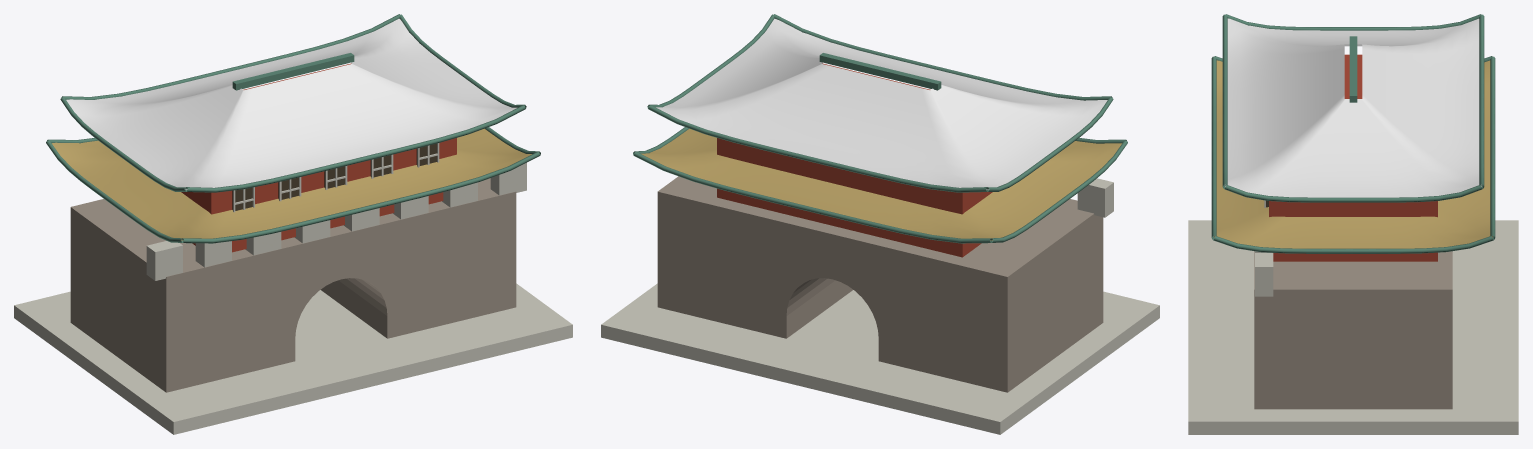
The model's file is beiping_detail.glb.
The picture shows the model from 3 angles, left to right: view 1: azimuth 30°, elevation 25°; view 2: azimuth 150°, elevation 25°; view 3: azimuth 270°, elevation 25°; orthographic projection. The views are drawn at different scales.
Visible parts, largest first — view 1: Glazed roof tile seams, left pier, stone plinth, right pier, lower eaves, arched stone span, red upper hall, green glazed edge.004, green glazed edge, green glazed edge.002, battlement, roof ridge (+10 smaller); view 2: Glazed roof tile seams, left pier, stone plinth, right pier, lower eaves, red upper hall, arched stone span, green glazed edge.006, green glazed edge.002, green glazed edge, roof ridge, battlement (+3 smaller); view 3: Glazed roof tile seams, stone plinth, right pier, lower eaves, red upper hall, green glazed edge.005, green glazed edge.001, green glazed edge.004, green glazed edge.006, green glazed edge.003, green glazed edge, green glazed edge.002 (+2 smaller).
Part boxes in pixels (box(x1,y1,x2,y2)): Glazed roof tile seams: box(66, 18, 517, 189); left pier: box(70, 199, 295, 392); stone plinth: box(14, 283, 572, 434); right pier: box(321, 178, 516, 338); lower eaves: box(52, 128, 531, 240); arched stone span: box(287, 218, 387, 335); red upper hall: box(181, 63, 456, 252); green glazed edge.004: box(181, 151, 540, 243); green glazed edge: box(185, 105, 525, 192); green glazed edge.002: box(61, 14, 400, 99); battlement: box(146, 241, 182, 280); roof ridge: box(232, 53, 354, 90); Glazed roof tile seams: box(656, 18, 1107, 189); left pier: box(878, 199, 1103, 392); stone plinth: box(601, 283, 1159, 434); right pier: box(657, 176, 852, 338); lower eaves: box(641, 128, 1121, 240); red upper hall: box(717, 63, 992, 257); arched stone span: box(786, 216, 886, 335); green glazed edge.006: box(633, 151, 992, 243); green glazed edge.002: box(648, 105, 988, 192); green glazed edge: box(773, 14, 1112, 100); roof ridge: box(819, 53, 941, 90); battlement: box(1077, 178, 1113, 217); Glazed roof tile seams: box(1225, 18, 1481, 197); stone plinth: box(1188, 220, 1518, 434); right pier: box(1254, 251, 1452, 409); lower eaves: box(1214, 60, 1492, 248); red upper hall: box(1269, 54, 1437, 261); green glazed edge.005: box(1213, 236, 1493, 253); green glazed edge.001: box(1224, 184, 1482, 202); green glazed edge.004: box(1211, 56, 1216, 239); green glazed edge.006: box(1490, 56, 1495, 239); green glazed edge.003: box(1226, 14, 1480, 30); green glazed edge: box(1222, 14, 1227, 188); green glazed edge.002: box(1479, 14, 1484, 188).
Bounding box in the file's own units: 6.5 × 4.03 × 4.5.
